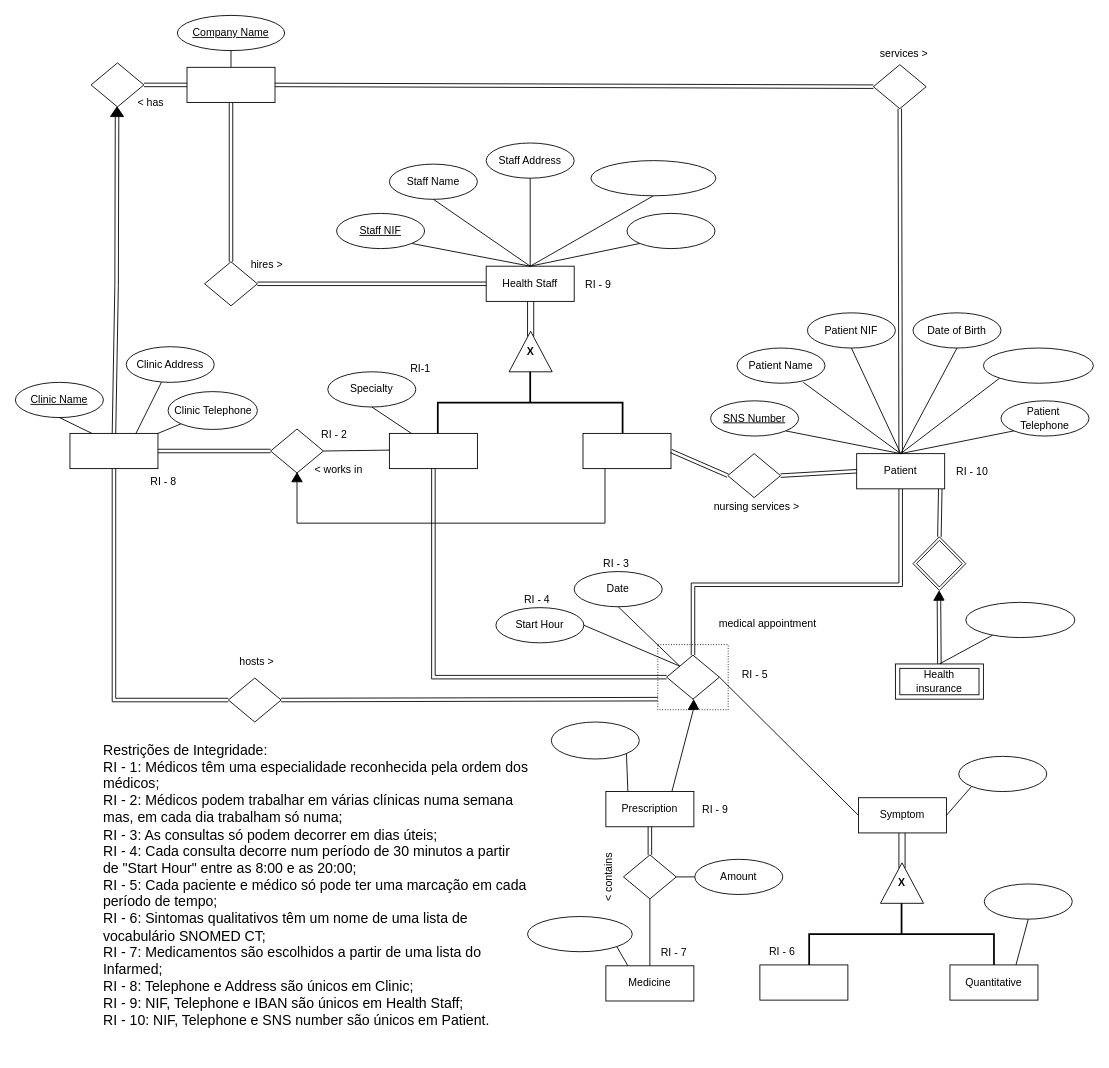
Some shapes in this 1109 by 1068 pixel diagram are drawn without their labels. Each missing label, with the box of its shape:
Clinic: (69, 433, 158, 469)
Company: (186, 66, 275, 103)
Description: (958, 755, 1047, 792)
Doctor: (389, 433, 477, 469)
IBAN: (626, 213, 715, 249)
Insurance Name: (965, 601, 1075, 638)
Medicine Name: (527, 916, 632, 952)
Nurse: (582, 433, 671, 469)
Patient Address: (983, 347, 1093, 383)
Qualitative: (759, 964, 848, 1000)
SNS Code: (550, 721, 639, 759)
Staff Telephone: (590, 160, 716, 196)
Value: (983, 883, 1072, 919)
